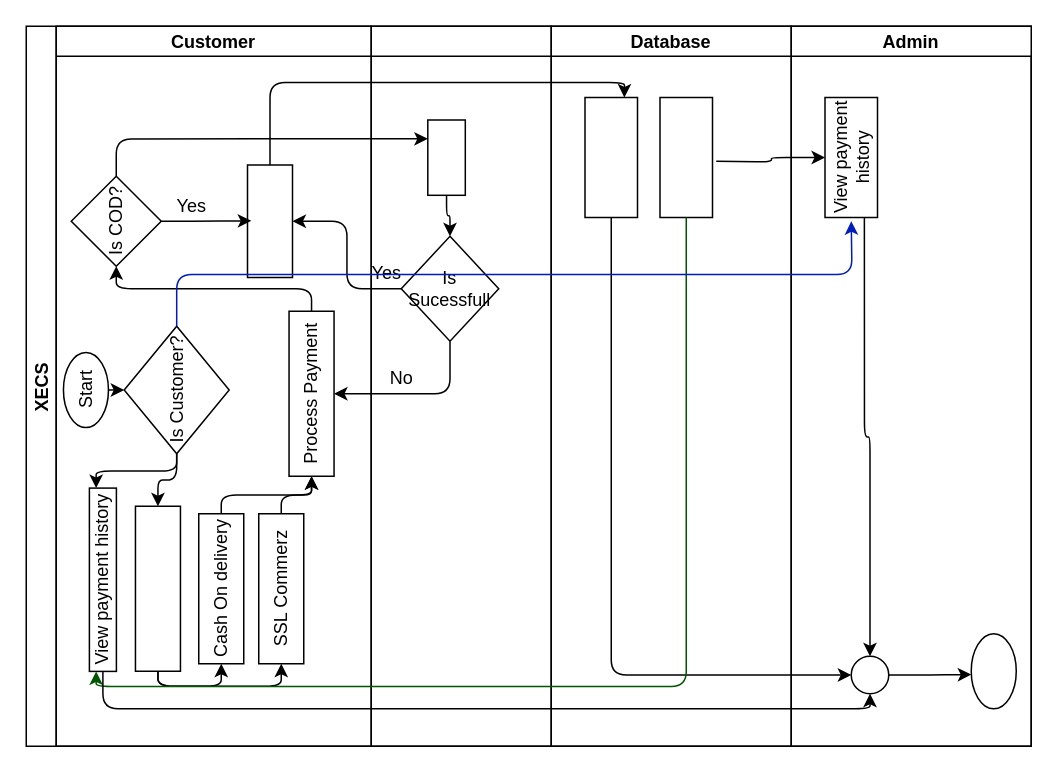
This 1058x773 diagram has some shape labels left out. Here are the shapes that lost their labels. From the top down, the box of each, then its label:
(426, 118, 465, 195): Pay
(584, 96, 638, 218): Store in database
(658, 96, 712, 218): Search in Database
(246, 164, 292, 278): Procced to delivery
(370, 25, 551, 746): SSLCOMMERZ
(134, 505, 180, 671): Select Payment Method
(970, 632, 1016, 709): End
